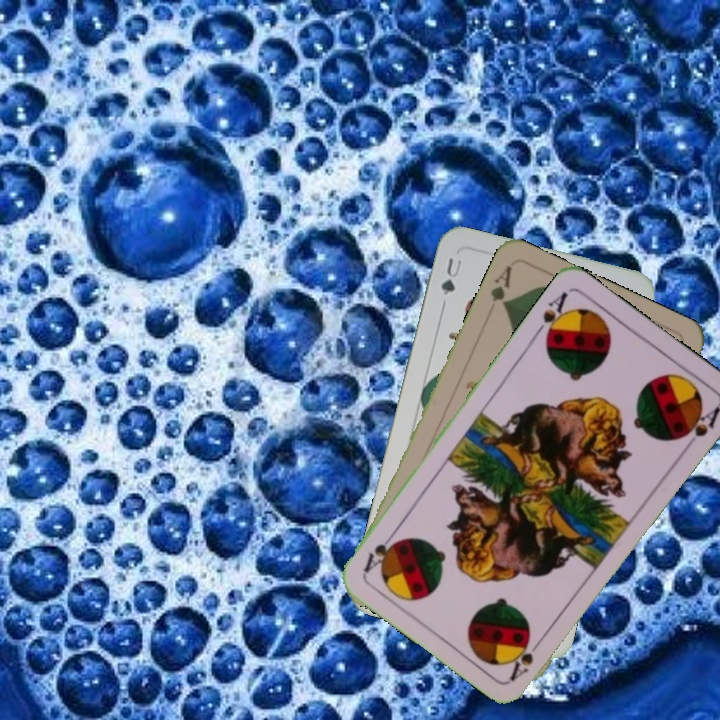GA: (486, 261, 515, 310)
GU: (437, 254, 465, 298)
SA: (530, 287, 573, 345), (506, 632, 547, 683)
